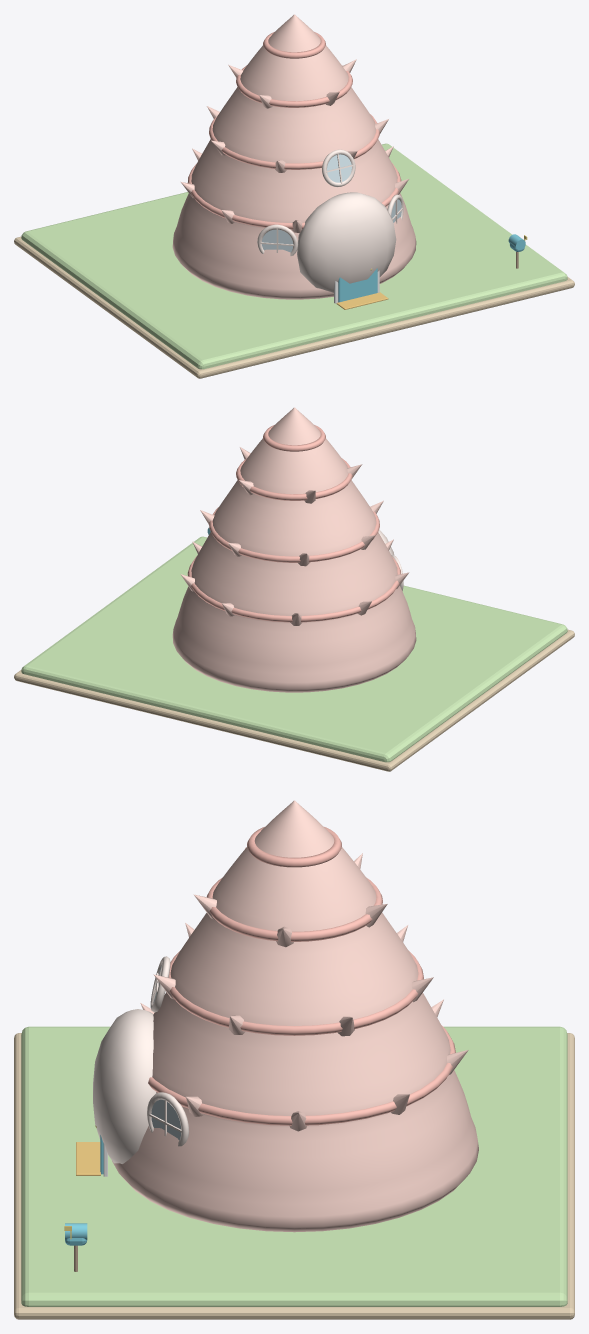
The model's file is building_ocean_L06.glb.
3 renders of one model, top to bottom at view 1: azimuth 30°, elevation 25°; view 2: azimuth 150°, elevation 25°; view 3: azimuth 270°, elevation 25°, orthographic. The views are drawn at different scales.
Visible parts, largest first — view 1: Body, ocean_L6; view 2: Body, ocean_L6; view 3: Body, ocean_L6.
Boxes of the visible parts, box(x1,y1,x2,y2) form: Body: box(172, 14, 416, 309); ocean_L6: box(14, 143, 574, 378); Body: box(172, 407, 416, 692); ocean_L6: box(14, 528, 574, 771); Body: box(76, 800, 478, 1232); ocean_L6: box(14, 1026, 574, 1319).
Bounding box in the file's own units: 26.61 × 16.97 × 22.6.
